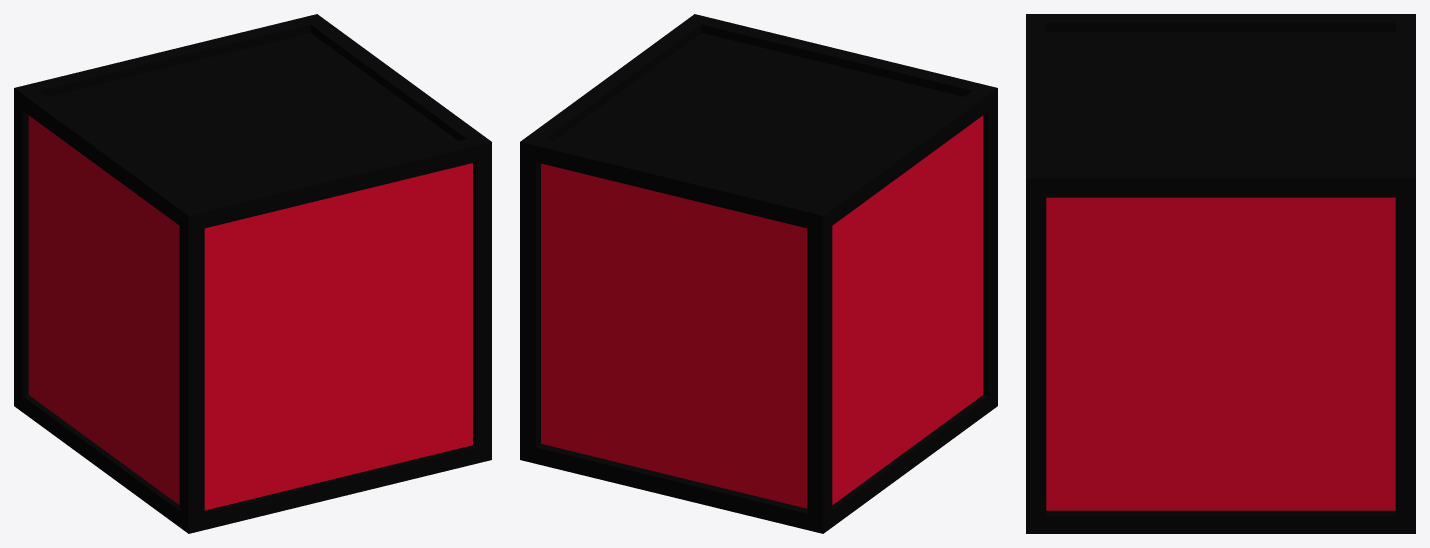
The picture shows the model from 3 angles, left to right: view 1: azimuth 30°, elevation 25°; view 2: azimuth 150°, elevation 25°; view 3: azimuth 270°, elevation 25°; orthographic projection. The views are drawn at different scales.
Parts seen in each view (by area): view 1: Building7; view 2: Building7; view 3: Building7.
Boxes of the visible parts, left/top/right/bottom form: Building7: left=14, top=14, right=491, bottom=533; Building7: left=520, top=14, right=997, bottom=533; Building7: left=1026, top=14, right=1415, bottom=533.
Bounding box in the file's own units: 3840 × 3850 × 3831.
